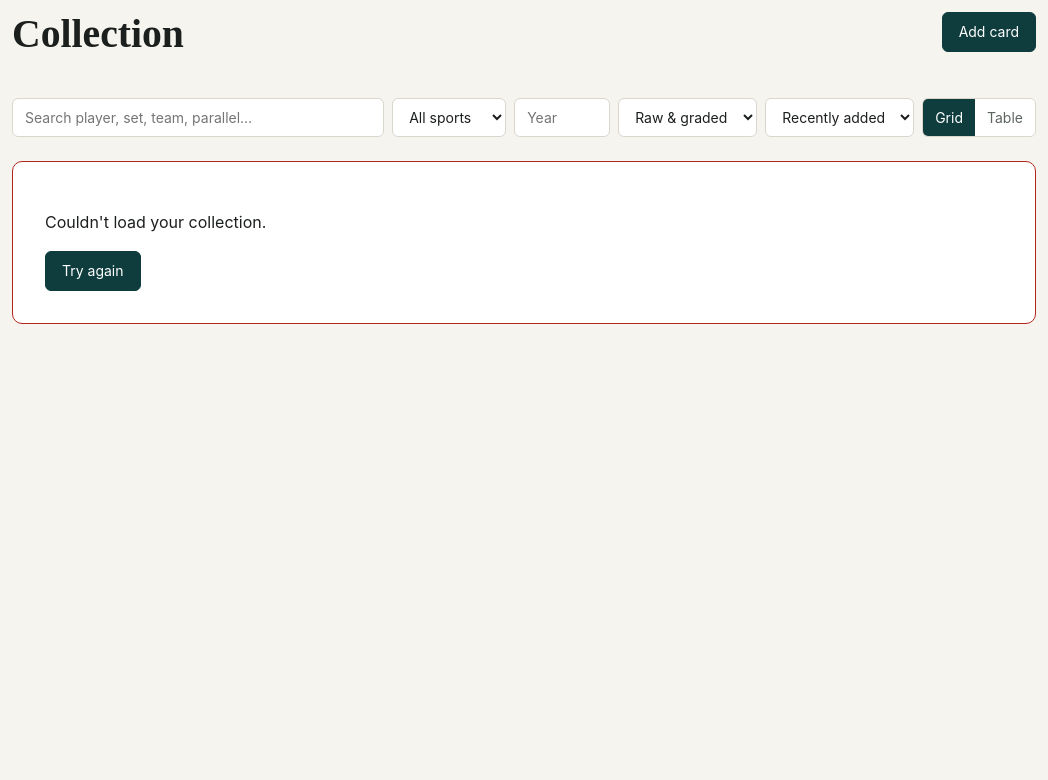
Scenario: CollectionPage › offers a retry on failure
Expected: the message shows "Couldn't load", x1=45 y1=212 x2=266 y2=232
Click the button "Try again" at x=93, y=271, box x1=45 y1=251 x2=140 y2=291
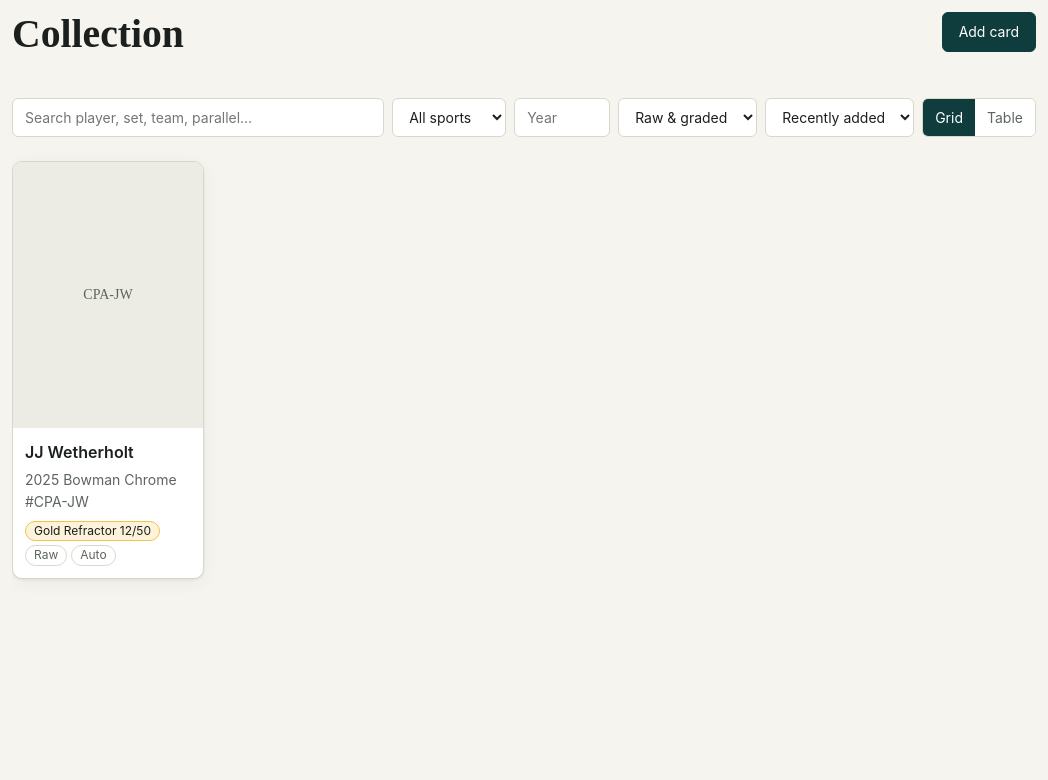
Expected: the text "JJ Wetherholt" is shown, x1=25 y1=442 x2=134 y2=462
